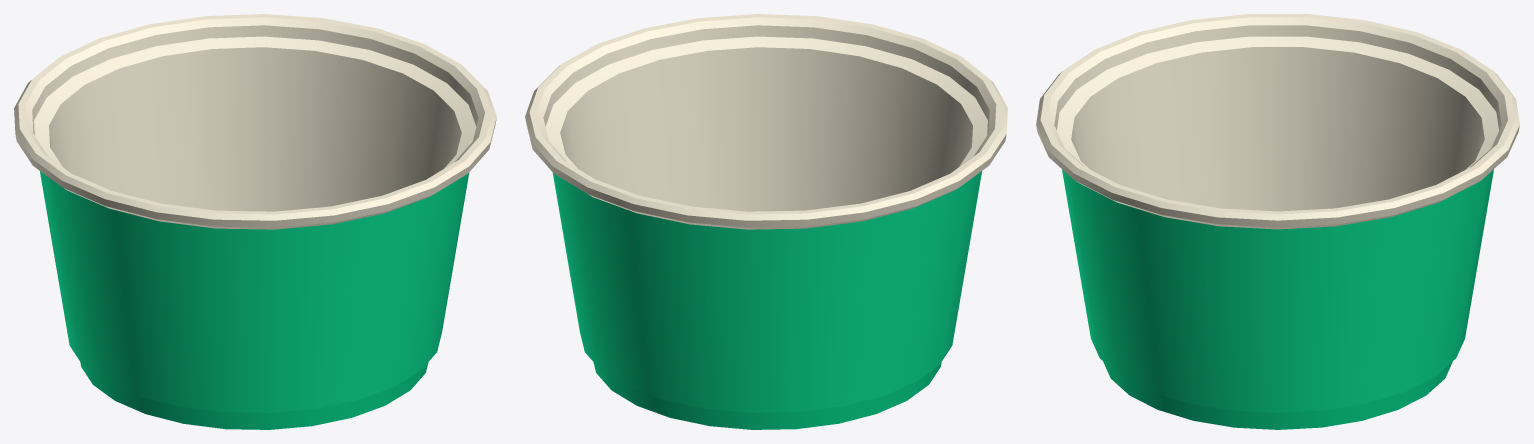
File: Cup S Green.fbx
The picture shows the model from 3 angles, left to right: view 1: azimuth 30°, elevation 25°; view 2: azimuth 150°, elevation 25°; view 3: azimuth 270°, elevation 25°; orthographic projection.
Parts seen in each view (by area): view 1: Cup S Green; view 2: Cup S Green; view 3: Cup S Green.
Boxes of the visible parts, x1,y1,x2,y2 form: Cup S Green: (14,14,496,429); Cup S Green: (525,14,1007,429); Cup S Green: (1036,14,1519,429).
Size of the model in its own units: 0.7531 by 0.4164 by 0.7546.
